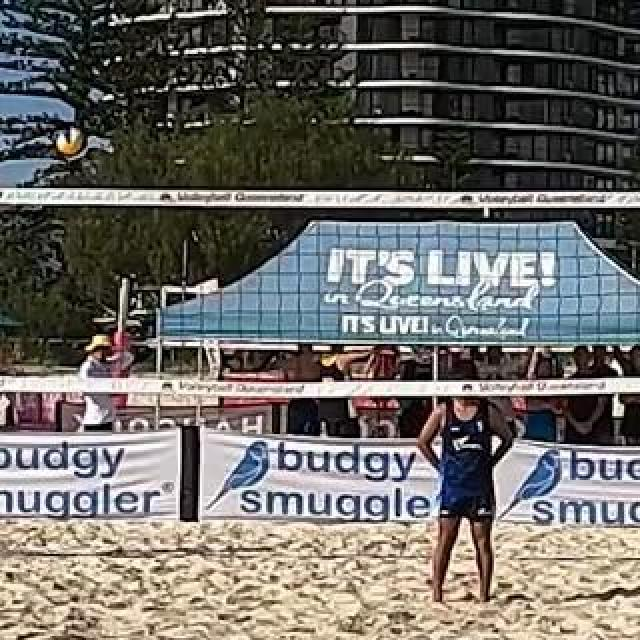volleyball: (56, 127, 86, 157)
